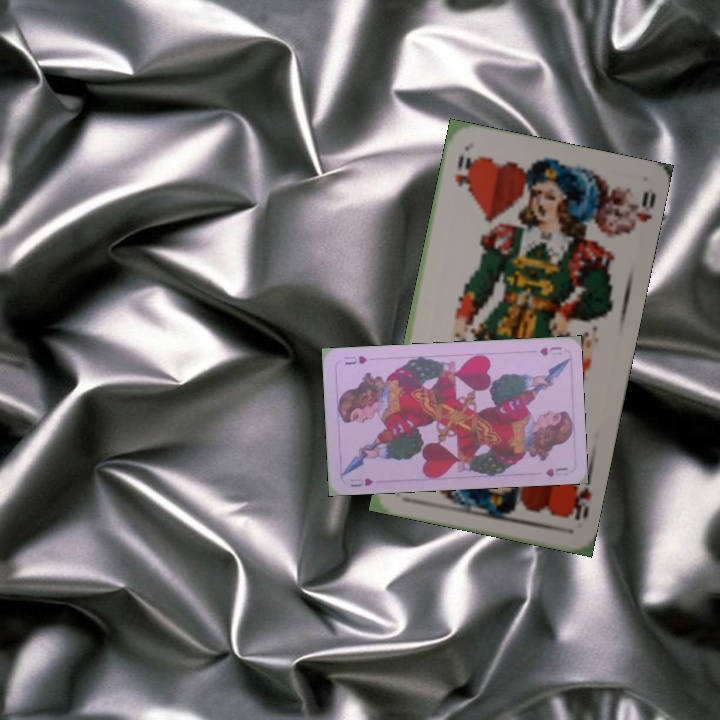HO: (564, 478, 594, 522), (450, 151, 476, 195)
HU: (347, 474, 376, 490), (535, 343, 564, 358)
